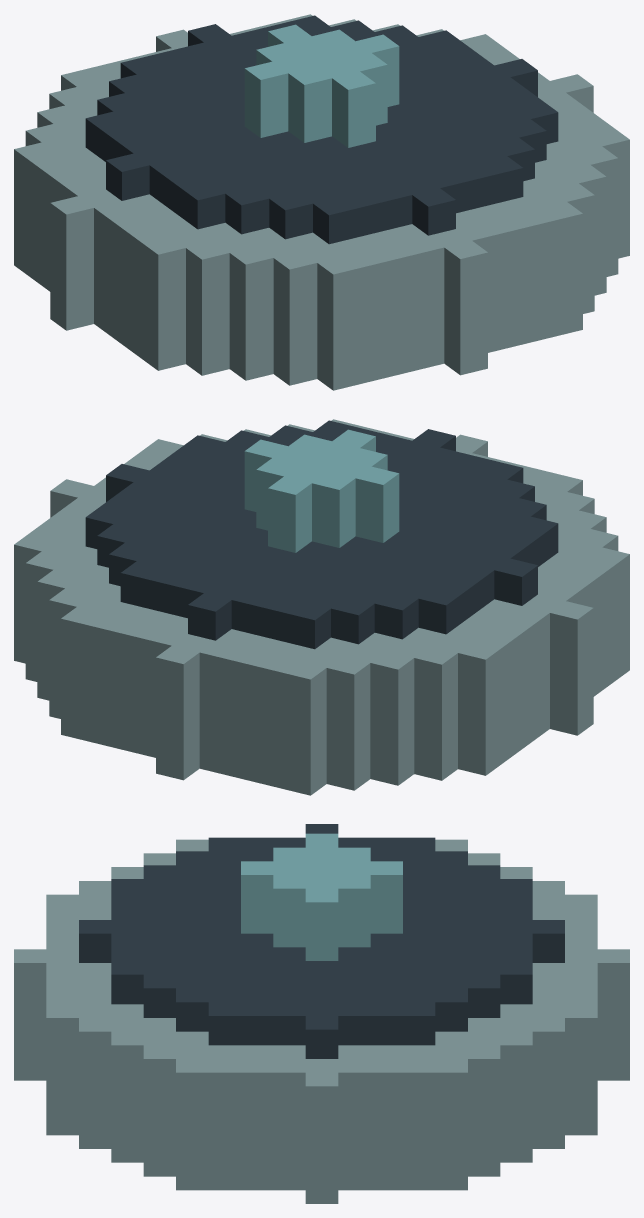
The model's file is iot-12.glb.
3 renders of one model, top to bottom at view 1: azimuth 30°, elevation 25°; view 2: azimuth 150°, elevation 25°; view 3: azimuth 270°, elevation 25°, orthographic.
Parts seen in each view (by area): view 1: Robot vacuum; view 2: Robot vacuum; view 3: Robot vacuum.
Boxes of the visible parts, box(x1,y1,x2,y2) form: Robot vacuum: box(14, 14, 629, 390); Robot vacuum: box(14, 419, 629, 795); Robot vacuum: box(14, 824, 629, 1203).
Bounding box in the file's own units: 1.52 × 0.56 × 1.52.
